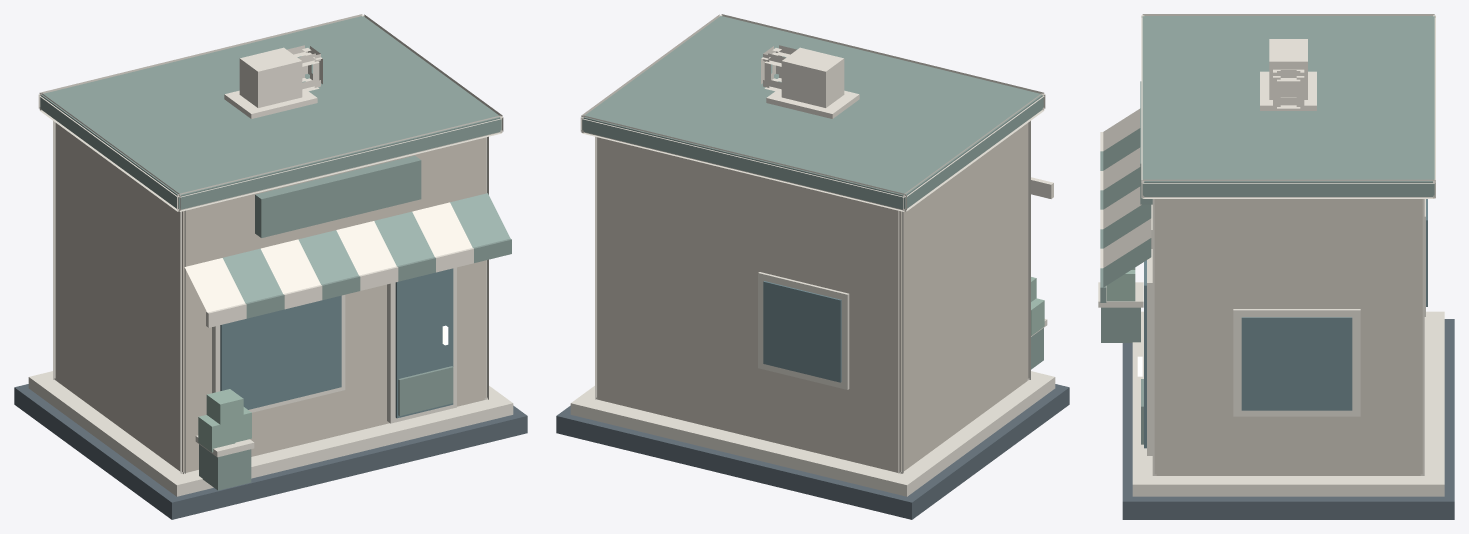
Rendered from glb-cafe.glb.
3 renders of one model, left to right at view 1: azimuth 30°, elevation 25°; view 2: azimuth 150°, elevation 25°; view 3: azimuth 270°, elevation 25°, orthographic. The views are drawn at different scales.
Visible parts, largest first — view 1: 01 Cafe; view 2: 01 Cafe; view 3: 01 Cafe.
Boxes of the visible parts, <box> form: 01 Cafe: <box>14,14,527,519</box>; 01 Cafe: <box>556,14,1069,519</box>; 01 Cafe: <box>1098,14,1454,519</box>.
Bounding box in the file's own units: 2.58 × 2.49 × 2.12.
